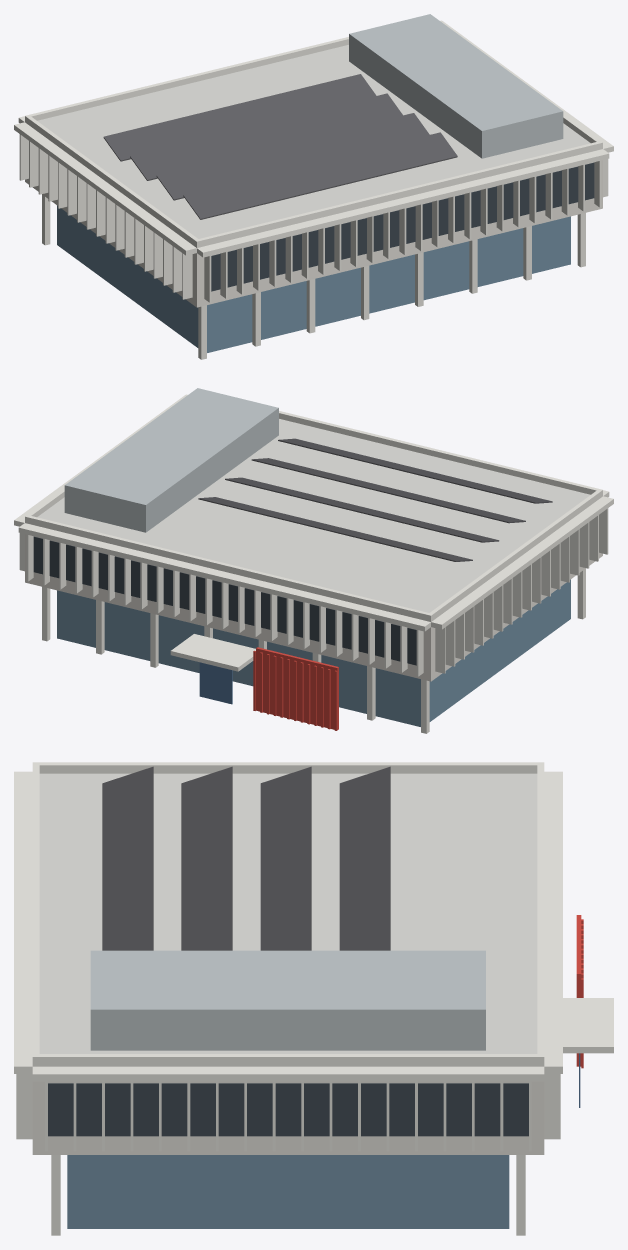
Rendered from ca_lab.glb.
3 renders of one model, top to bottom at view 1: azimuth 30°, elevation 25°; view 2: azimuth 150°, elevation 25°; view 3: azimuth 270°, elevation 25°, orthographic. The views are drawn at different scales.
Visible parts, largest first — view 1: ca_lab; view 2: ca_lab; view 3: ca_lab.
Part boxes in pixels (x1,y1,x2,y2): ca_lab: [14, 14, 613, 359]; ca_lab: [14, 388, 613, 733]; ca_lab: [14, 762, 613, 1235].
Size of the model in its own units: 31.6 by 10.4 by 25.8.
